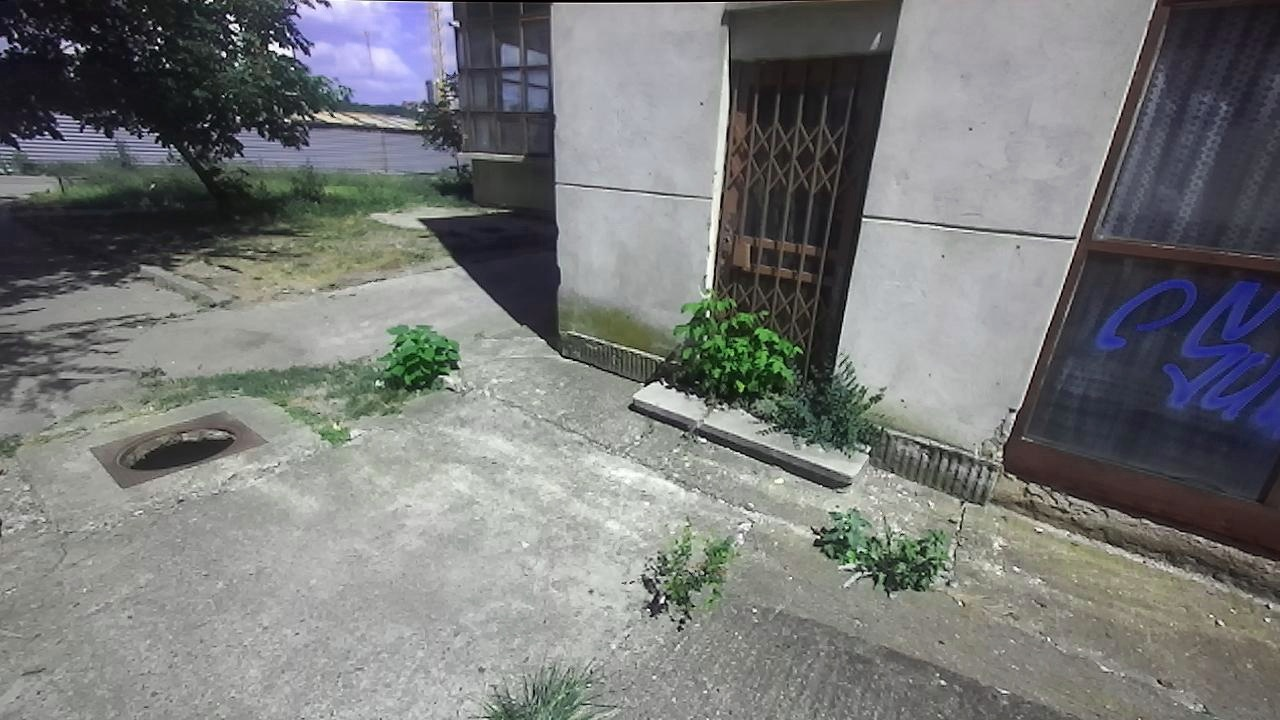drain: (111, 421, 255, 473)
